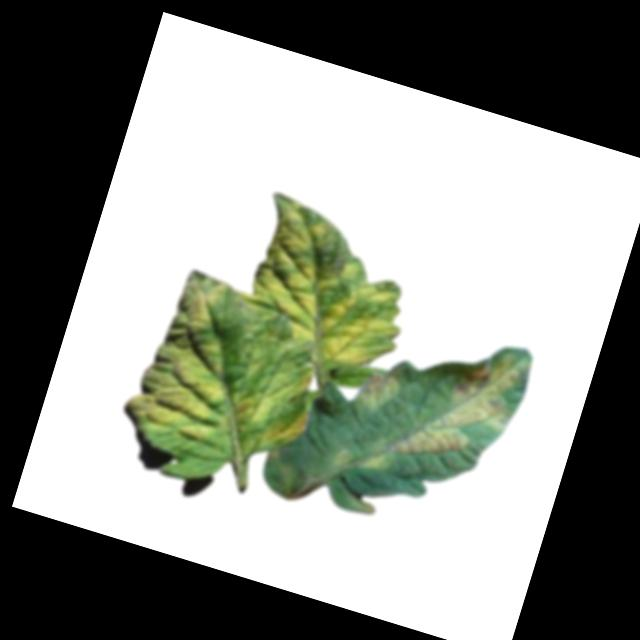Leaf_Mold: (233, 194, 431, 380), (119, 264, 259, 448), (385, 325, 532, 486), (225, 348, 323, 460), (327, 437, 392, 489), (349, 363, 400, 420)
